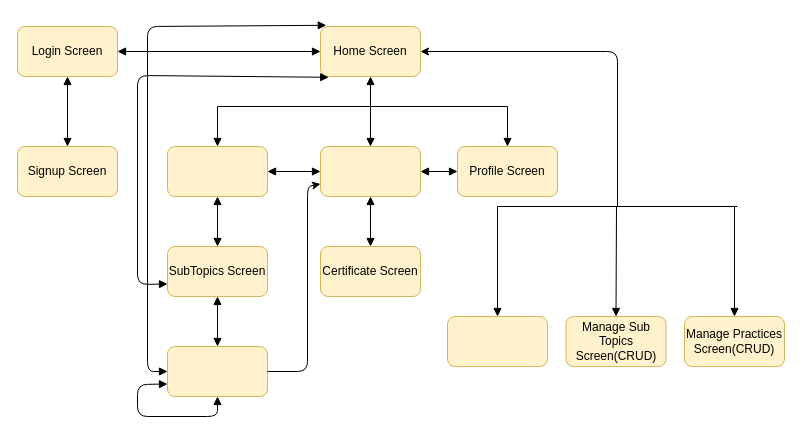
Some shapes in this 802 by 444 pixel diagram are drawn without their labels. Each missing label, with the centre of its shape:
"Manage Topics Screen (CRUD)" goes at (x=497, y=341).
"Practice Diary Screen" goes at (x=370, y=171).
"Solve Practice Screen" goes at (x=217, y=371).
"Topics Screen" goes at (x=217, y=171).
